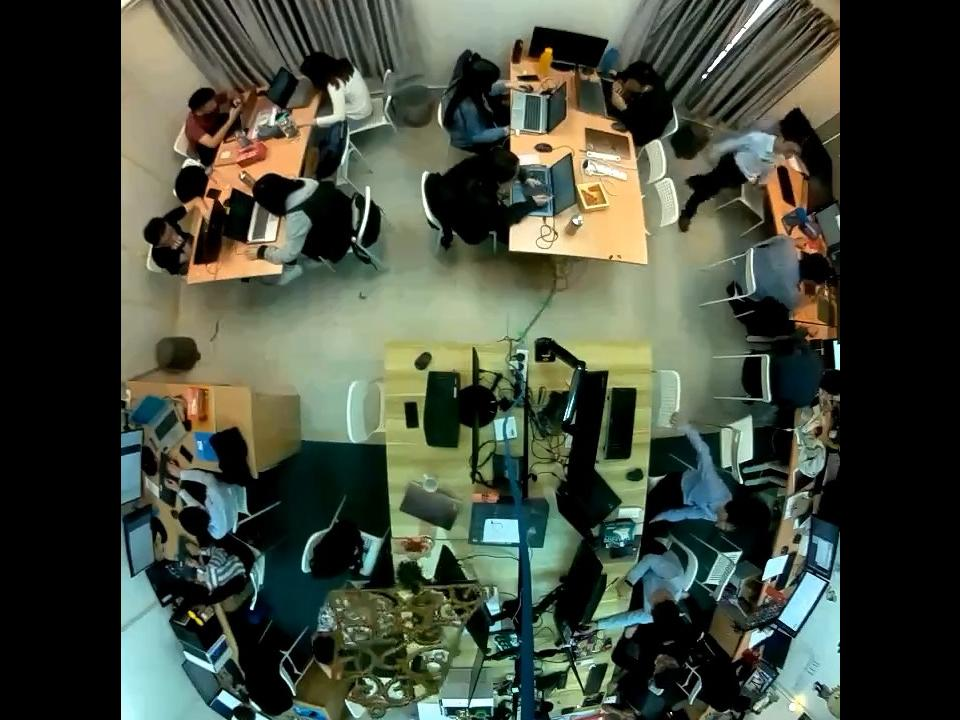name-tag: (758, 156, 770, 164)
